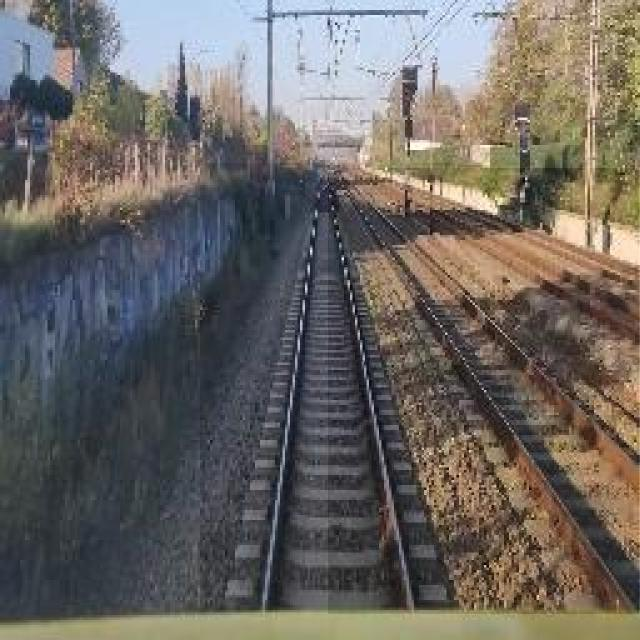rail: (330, 172, 640, 615), (201, 164, 464, 613), (347, 170, 640, 363)
